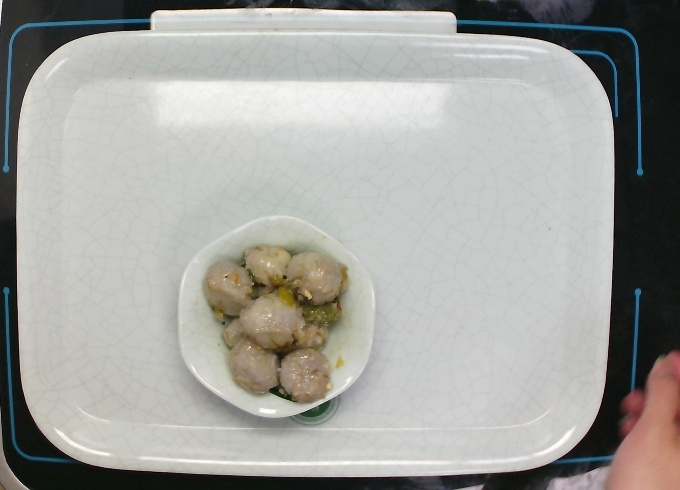WCQzf-Hua_Duo_Wan: (175, 212, 379, 420)
